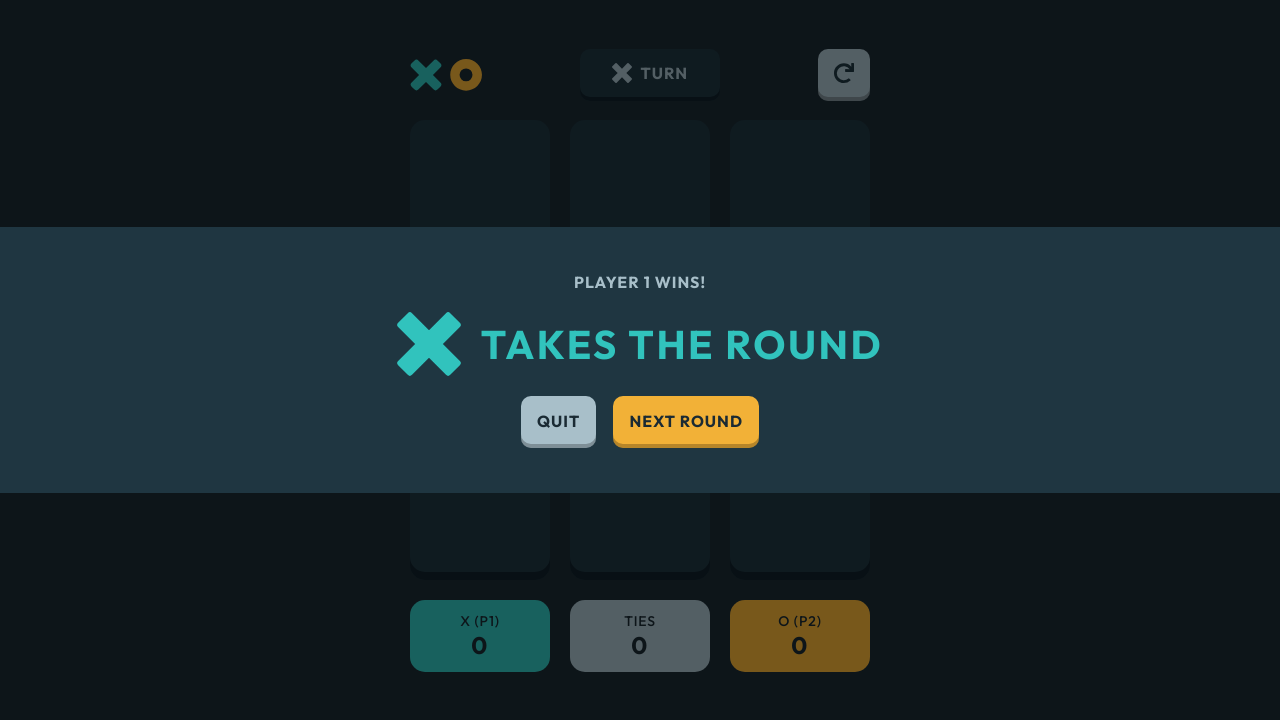
Test: App › returns to New Game Screen after quitting
Expected: the text "takes the round" is shown, [461, 319, 883, 369]
// Initiate move to the New Game screen
Click the button "Quit" at (559, 422), box [521, 396, 596, 448]
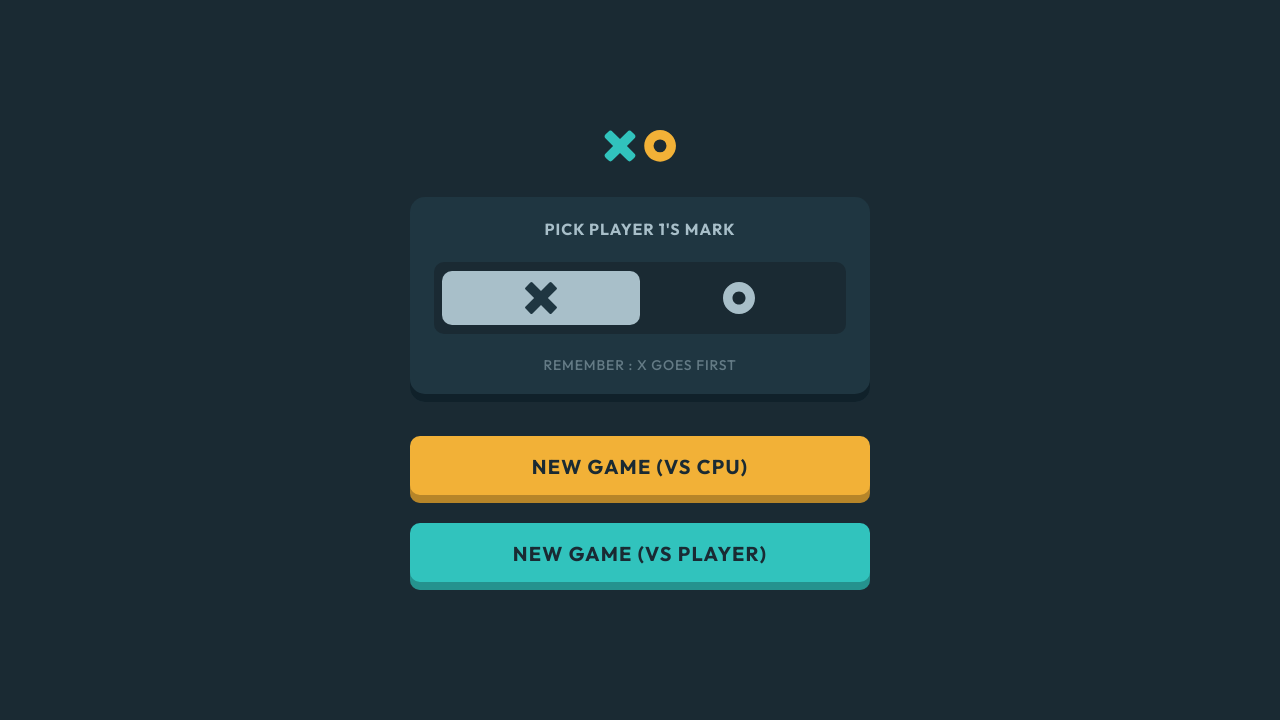
Expected: the text "Pick player 1's mark" is shown, [544, 219, 735, 239]
